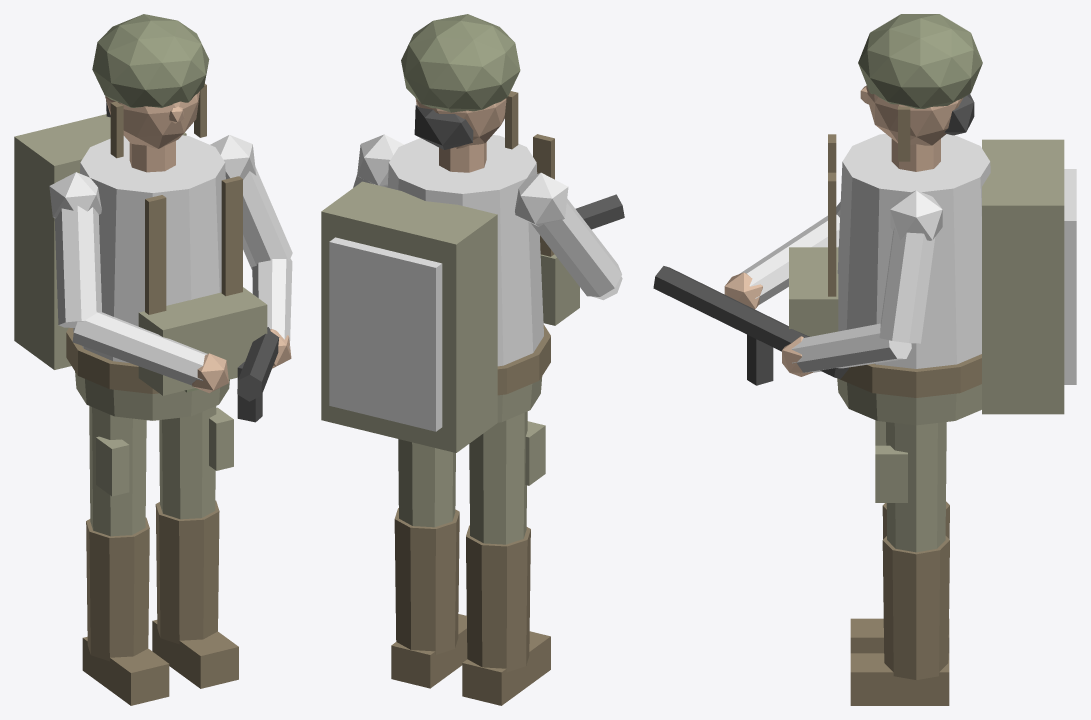
File: civ_unit_paratrooper.glb
3 views of the same model, side by side, from view 1: azimuth 30°, elevation 25°; view 2: azimuth 150°, elevation 25°; view 3: azimuth 270°, elevation 25° (orthographic). The views are drawn at different scales.
Parts seen in each view (by area): view 1: civ_unit_paratrooper; view 2: civ_unit_paratrooper; view 3: civ_unit_paratrooper.
Part boxes in pixels (bbox=[...]): civ_unit_paratrooper: bbox=[14, 14, 292, 705]; civ_unit_paratrooper: bbox=[321, 14, 624, 705]; civ_unit_paratrooper: bbox=[653, 14, 1076, 705].
Bounding box in the file's own units: 0.7173 × 1.77 × 1.03.
